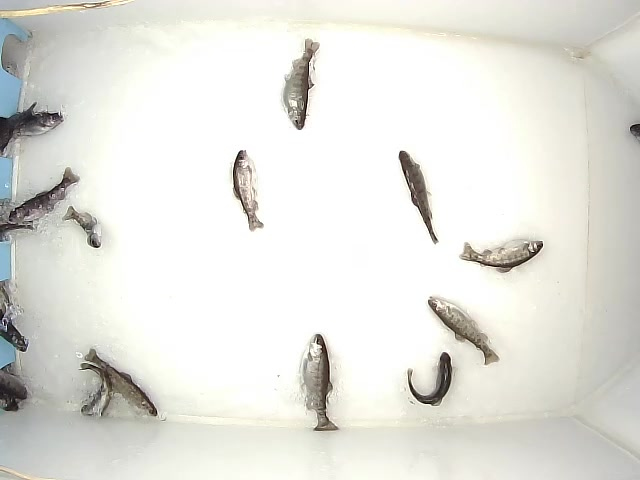fish: (427, 294, 501, 367), (83, 348, 158, 417), (8, 166, 81, 225), (298, 332, 341, 432), (398, 150, 439, 245), (281, 37, 321, 132), (457, 236, 544, 275), (231, 149, 265, 233), (406, 351, 453, 407), (77, 362, 113, 419), (62, 206, 102, 249)
